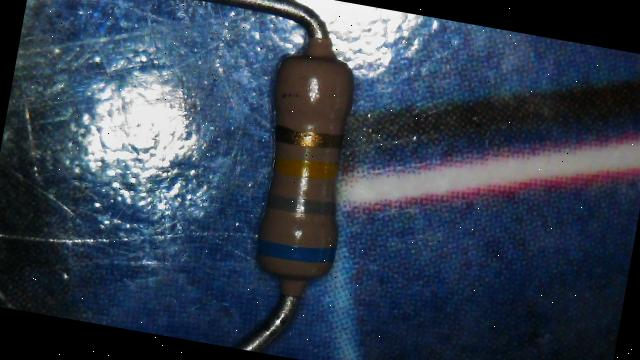blue: (258, 234, 337, 267)
gold: (272, 124, 346, 151)
grey: (266, 192, 339, 218)
resistor: (225, 29, 372, 307)
yellow: (274, 154, 338, 182)
